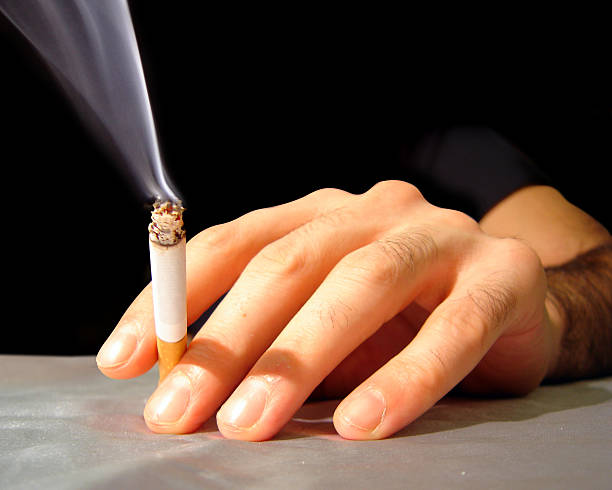cigarette: (149, 197, 188, 382)
